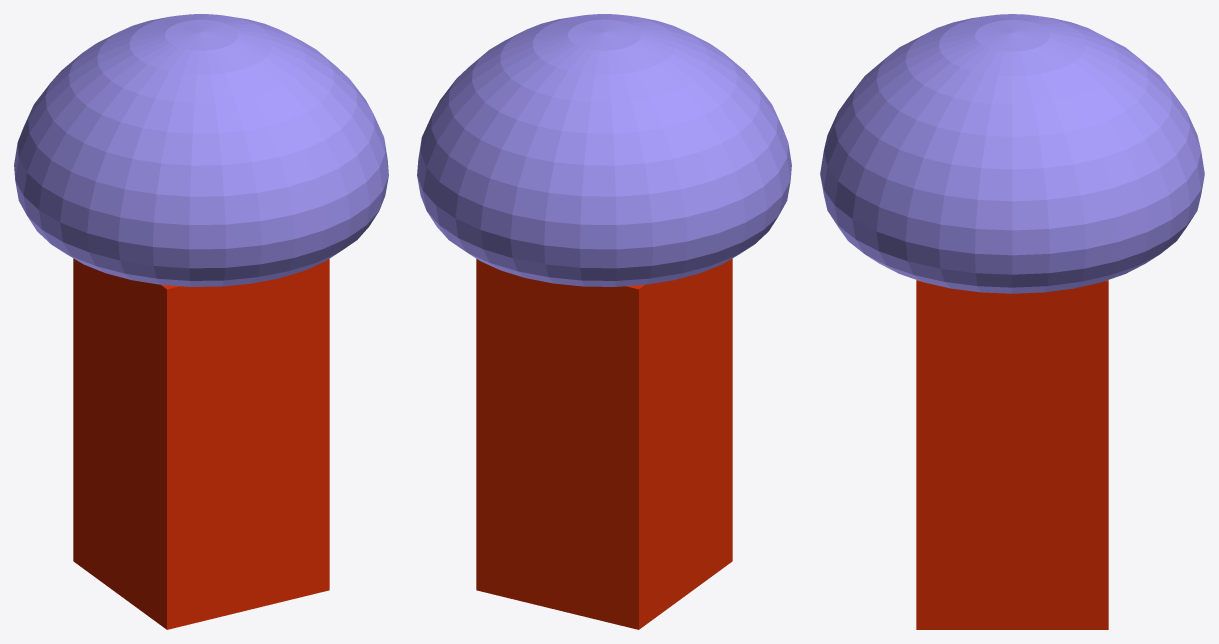
Rendered from research lab.fbx.
3 renders of one model, left to right at view 1: azimuth 30°, elevation 25°; view 2: azimuth 150°, elevation 25°; view 3: azimuth 270°, elevation 25°, orthographic. The views are drawn at different scales.
Parts seen in each view (by area): view 1: Cube, Sphere; view 2: Cube, Sphere; view 3: Sphere, Cube.
Part boxes in pixels (left/top/right/bottom): Cube: left=73, top=258, right=329, bottom=629; Sphere: left=14, top=14, right=388, bottom=286; Cube: left=476, top=258, right=732, bottom=629; Sphere: left=417, top=14, right=791, bottom=286; Sphere: left=820, top=14, right=1204, bottom=293; Cube: left=916, top=280, right=1108, bottom=629.
Size of the model in its own units: 400 by 639 by 400.
